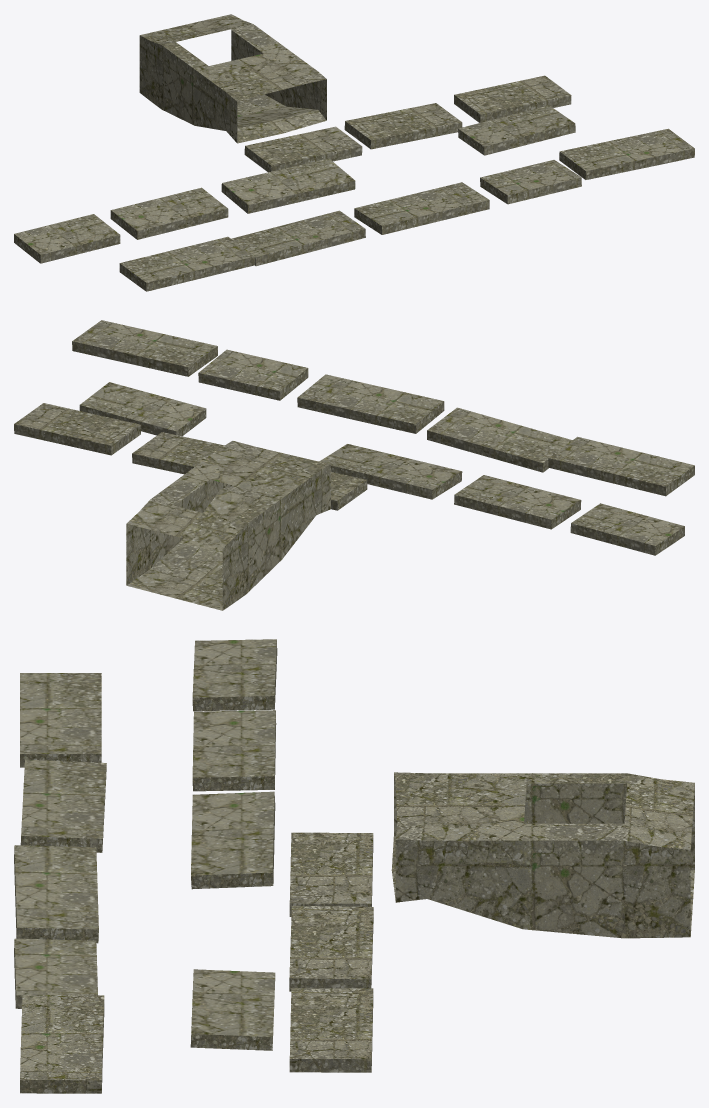
The model's file is SM_Chateaux_05_01.fbx.
3 renders of one model, top to bottom at view 1: azimuth 30°, elevation 25°; view 2: azimuth 150°, elevation 25°; view 3: azimuth 270°, elevation 25°, orthographic. The views are drawn at different scales.
Parts seen in each view (by area): view 1: SM_Chateaux_05_01; view 2: SM_Chateaux_05_01; view 3: SM_Chateaux_05_01.
Part boxes in pixels (left/top/right/bottom): SM_Chateaux_05_01: left=14, top=14, right=694, bottom=291; SM_Chateaux_05_01: left=14, top=320, right=694, bottom=610; SM_Chateaux_05_01: left=14, top=639, right=694, bottom=1093.
Bounding box in the file's own units: 3056 × 315 × 1982.
